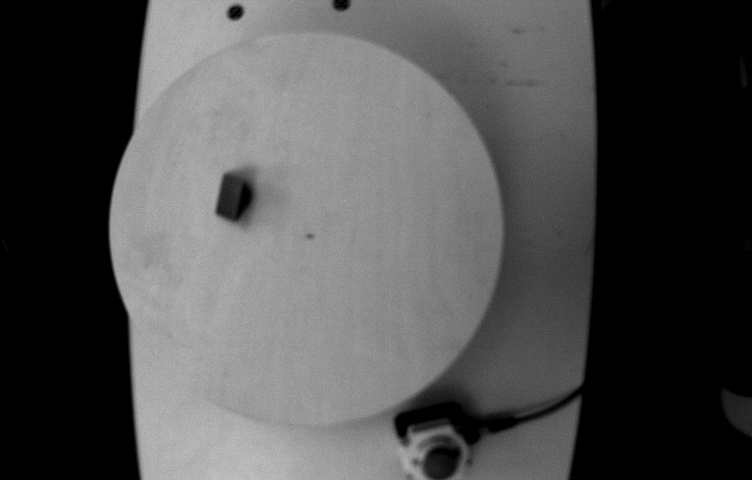pyramid: (209, 166, 261, 231)
